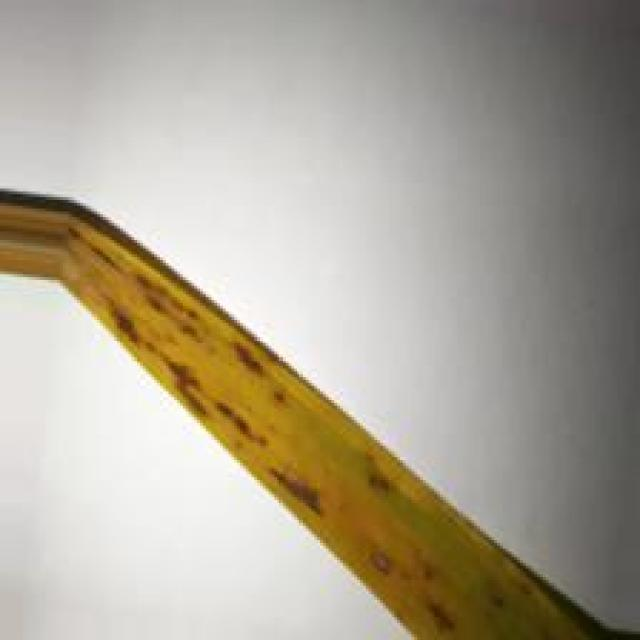Narrow_Brown_Leaf_Spot: (0, 184, 639, 640)
